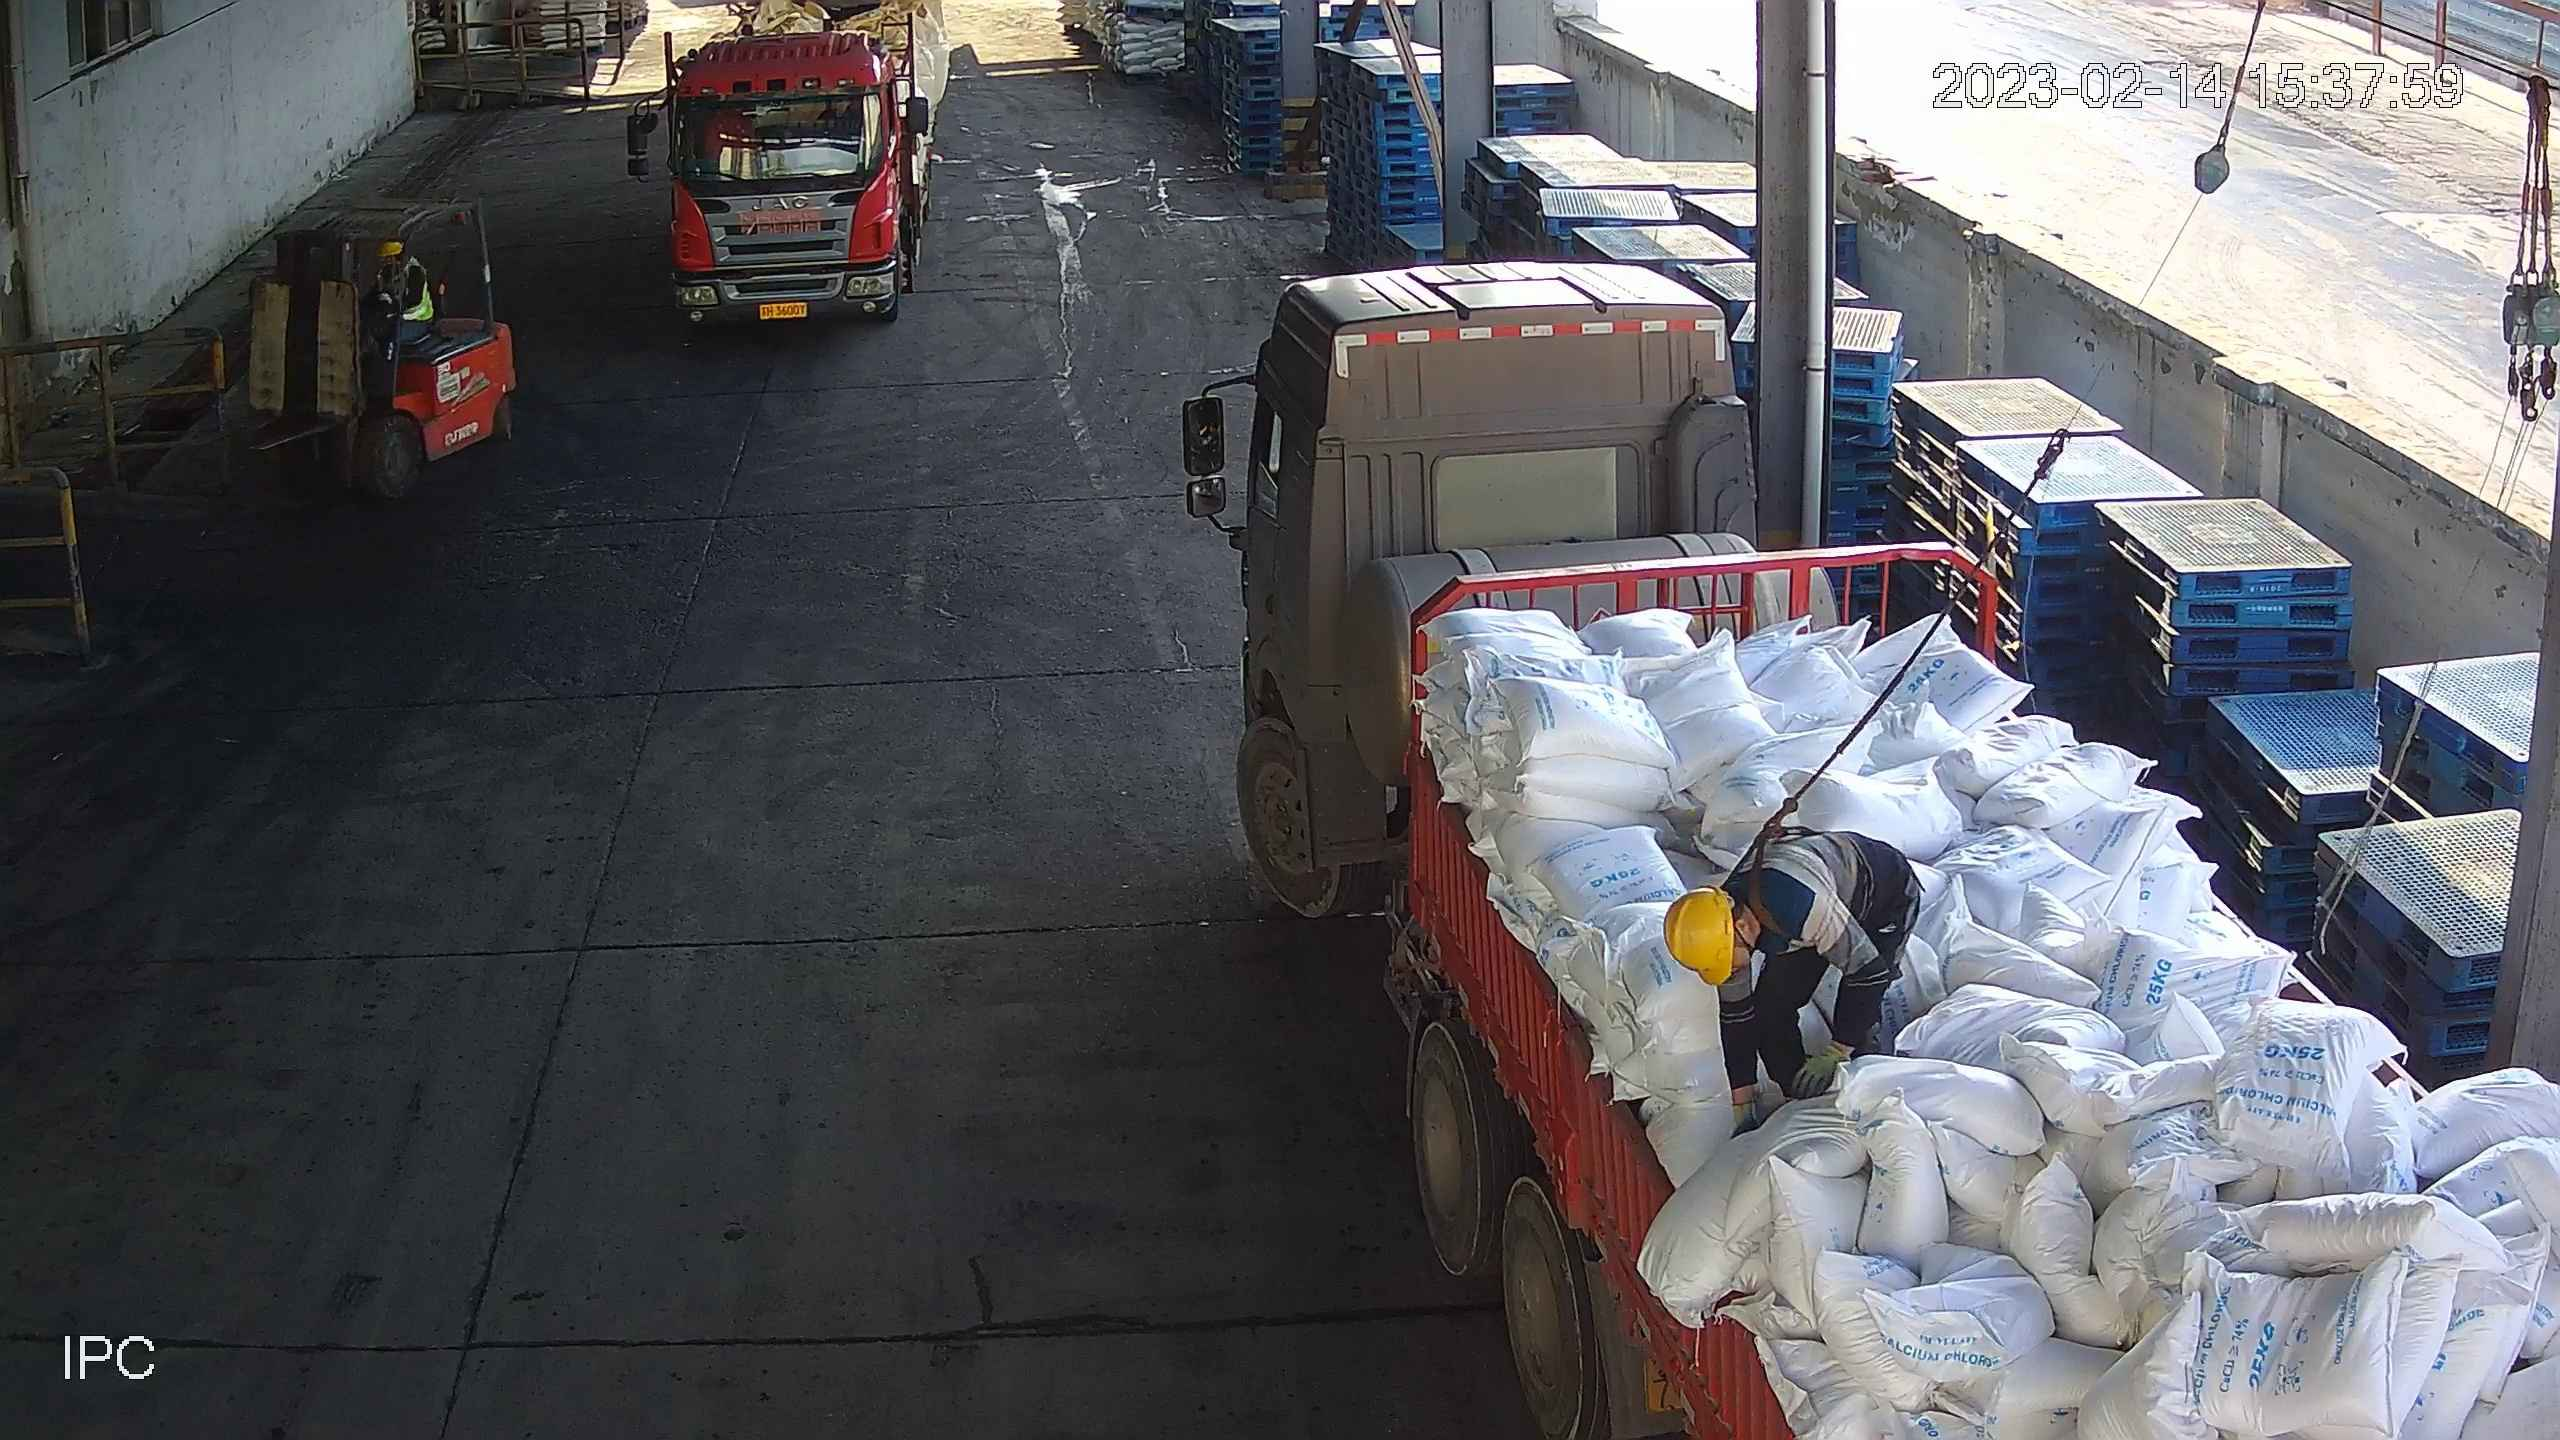belt: (1711, 806, 1805, 953)
head: (1651, 827, 1803, 1004)
helmet: (1646, 886, 1746, 984)
people: (1655, 823, 1936, 1125)
truck: (1181, 267, 2560, 1440), (629, 10, 962, 334)
